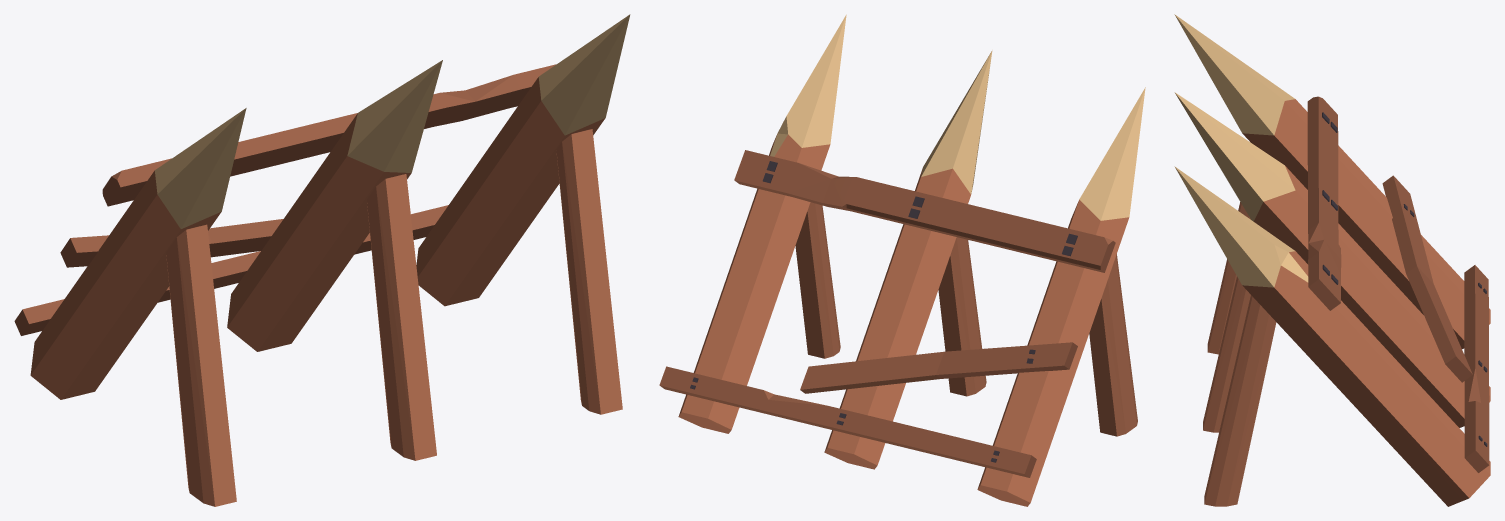
The model's file is Spikes_2.fbx.
The picture shows the model from 3 angles, left to right: view 1: azimuth 30°, elevation 25°; view 2: azimuth 150°, elevation 25°; view 3: azimuth 270°, elevation 25°; orthographic projection. The views are drawn at different scales.
Visible parts, largest first — view 1: Spikes_2; view 2: Spikes_2; view 3: Spikes_2.
Part boxes in pixels (x1,y1,x2,y2): Spikes_2: (14,14,630,506); Spikes_2: (659,14,1145,506); Spikes_2: (1174,14,1490,506).
Size of the model in its own units: 1.25 by 1.04 by 0.8895.
